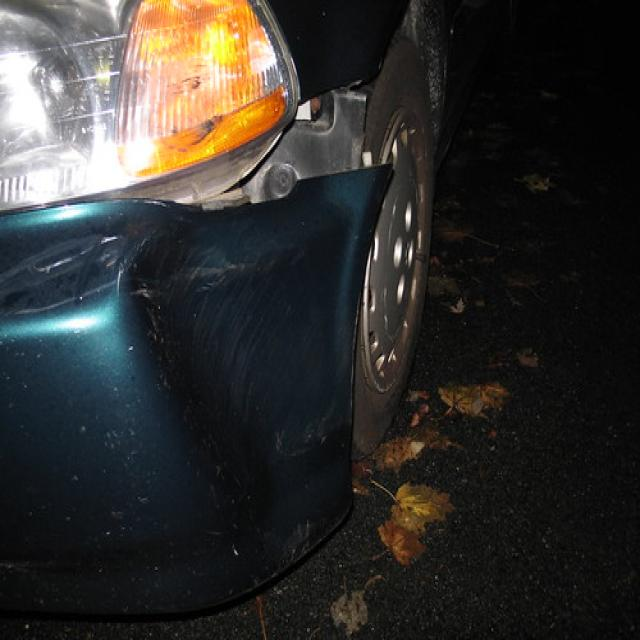dent: (118, 190, 371, 510)
misalignment: (87, 71, 392, 209)
scratch: (0, 232, 338, 460)
